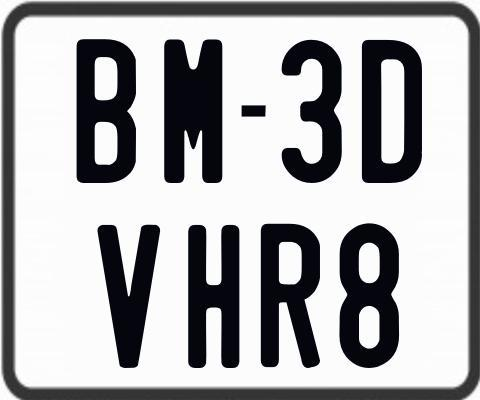3: (282, 39, 345, 182)
8: (337, 221, 399, 370)
B: (76, 36, 136, 186)
D: (361, 40, 425, 185)
H: (188, 225, 241, 371)
M: (164, 39, 223, 185)
R: (259, 223, 322, 369)
V: (98, 224, 166, 373)
